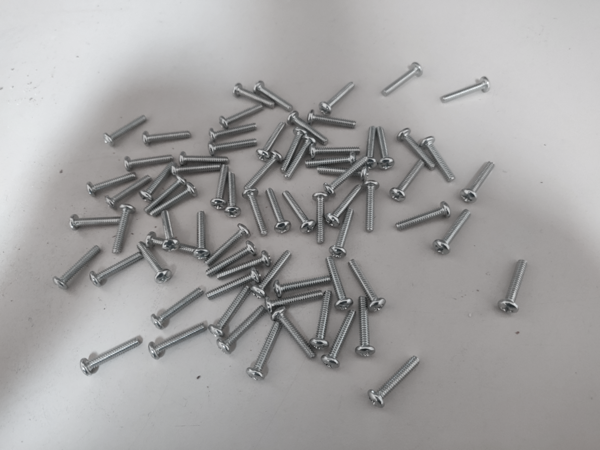longscrew: (367, 361, 423, 406), (149, 285, 203, 330), (217, 308, 268, 352), (81, 336, 138, 374), (275, 307, 315, 360), (92, 246, 142, 288), (151, 321, 206, 358), (210, 288, 252, 336), (250, 249, 291, 298), (324, 312, 359, 369), (250, 323, 285, 380), (58, 241, 96, 291), (350, 259, 385, 310), (204, 226, 247, 266), (151, 183, 202, 216), (311, 291, 341, 347), (326, 156, 370, 194), (206, 270, 262, 299), (134, 241, 172, 283), (205, 245, 256, 276), (244, 153, 285, 191), (323, 259, 354, 309), (274, 270, 331, 297), (501, 262, 531, 313), (422, 137, 456, 182), (398, 128, 436, 168), (102, 112, 146, 146), (436, 212, 471, 254), (396, 202, 448, 230), (144, 178, 186, 212), (327, 186, 363, 225), (107, 173, 148, 207), (391, 162, 427, 200), (284, 192, 317, 233), (143, 234, 204, 256), (263, 191, 296, 231), (142, 159, 175, 199), (286, 136, 318, 177), (216, 256, 273, 279), (267, 288, 321, 312), (289, 113, 329, 145), (463, 164, 497, 201), (110, 205, 136, 253), (444, 76, 491, 101), (383, 64, 422, 94), (330, 212, 357, 255), (281, 130, 309, 171), (320, 83, 356, 114), (244, 190, 267, 236), (357, 294, 374, 356), (259, 121, 287, 158), (86, 171, 133, 193), (255, 82, 294, 108), (220, 103, 264, 126), (208, 137, 258, 156), (207, 121, 255, 140), (212, 163, 230, 211), (303, 152, 356, 168), (143, 128, 190, 146), (123, 153, 174, 169), (236, 85, 272, 107), (307, 112, 356, 128), (363, 181, 378, 232), (163, 208, 178, 258), (170, 162, 221, 176), (317, 192, 330, 244), (308, 144, 359, 156), (363, 127, 378, 167), (227, 172, 239, 221), (196, 212, 207, 263), (378, 128, 392, 168), (316, 165, 369, 174), (178, 155, 229, 164)
